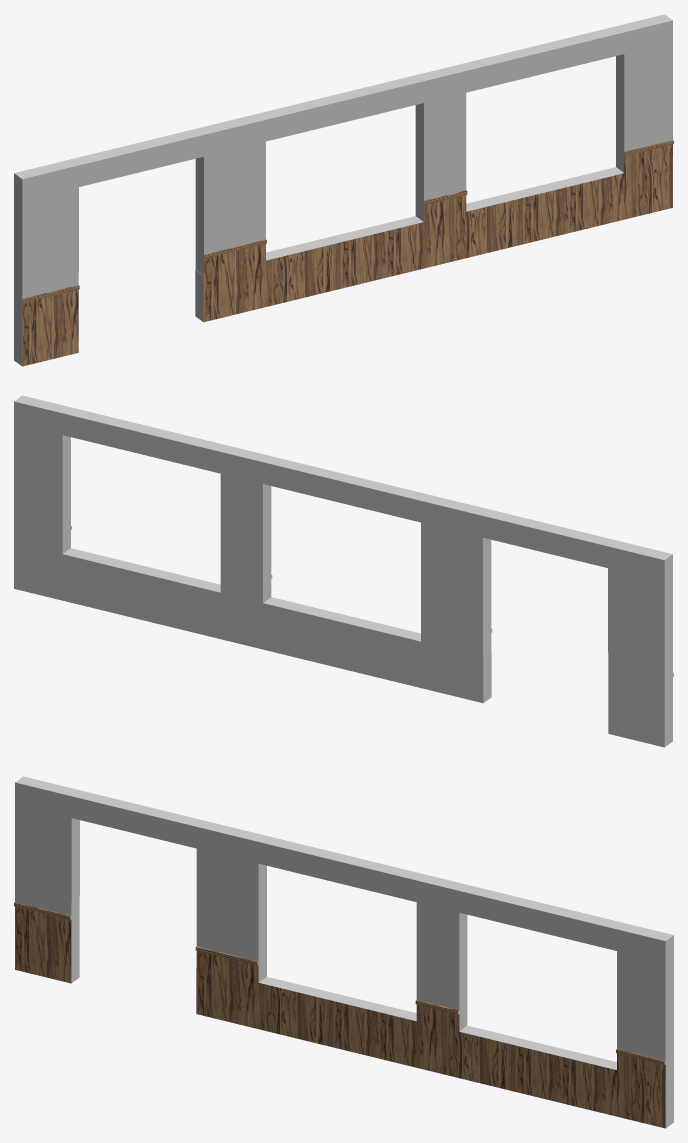
The model's file is Wall 4.FBX.
3 views of the same model, one above another, from view 1: azimuth 30°, elevation 25°; view 2: azimuth 150°, elevation 25°; view 3: azimuth 330°, elevation 25° (orthographic).
Visible parts, largest first — view 1: Wall 4; view 2: Wall 4; view 3: Wall 4.
Part boxes in pixels (x1,y1,x2,y2): Wall 4: (14,14,673,366); Wall 4: (14,395,673,747); Wall 4: (14,776,673,1128).
Bounding box in the file's own units: 989 × 272 × 24.56.
